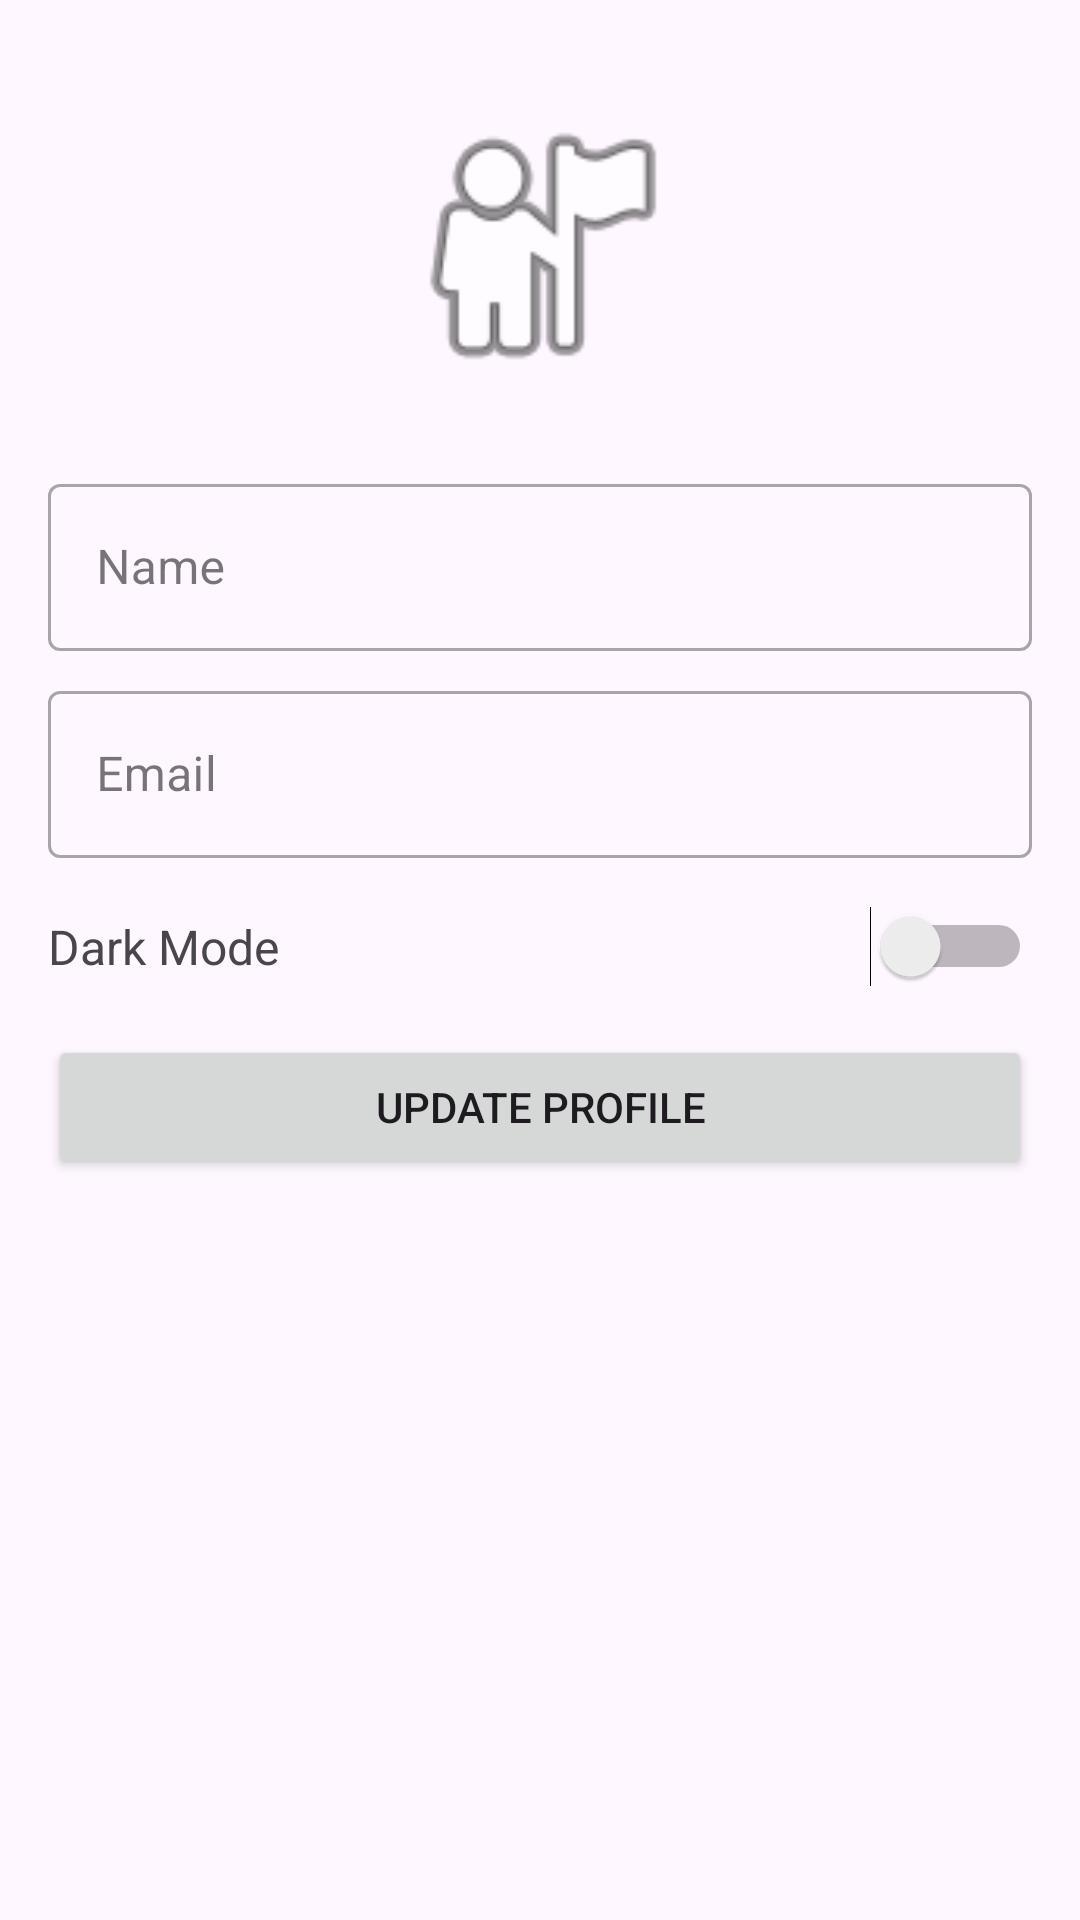

Screen size 1080 × 1920. Icon name, then its center in pixels as (x=x, y=y):
Profile picture: (x=543, y=246)
